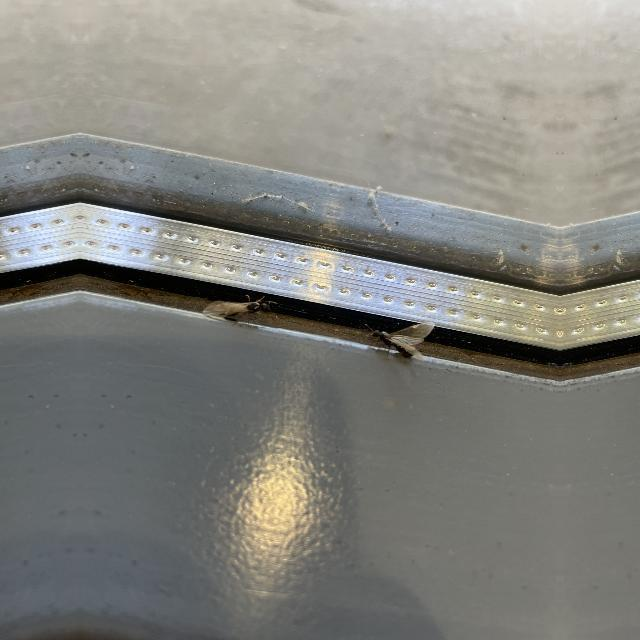Camponotus: (366, 305, 438, 369), (210, 282, 278, 334)
